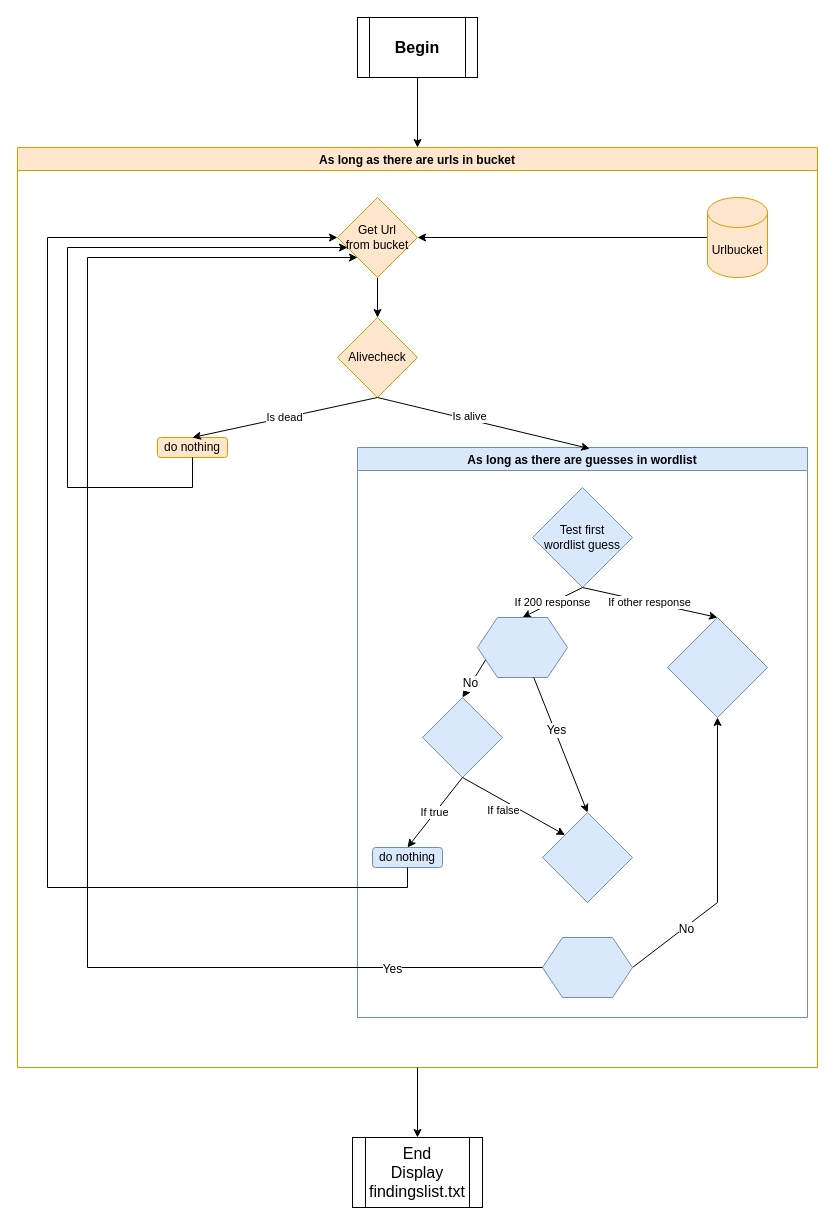
The diagram is 835 pixels wide and 1225 high, and some of its shapes have lost their labels. The centre of each missing label's shape, as x and y in pixels:
FAKE = false?: the point at 522,647
Fakecheck: the point at 462,737
Save url + guess to findinglist: the point at 587,857
Test next wordlist guess: the point at 717,667
Wordlist done: the point at 587,967
